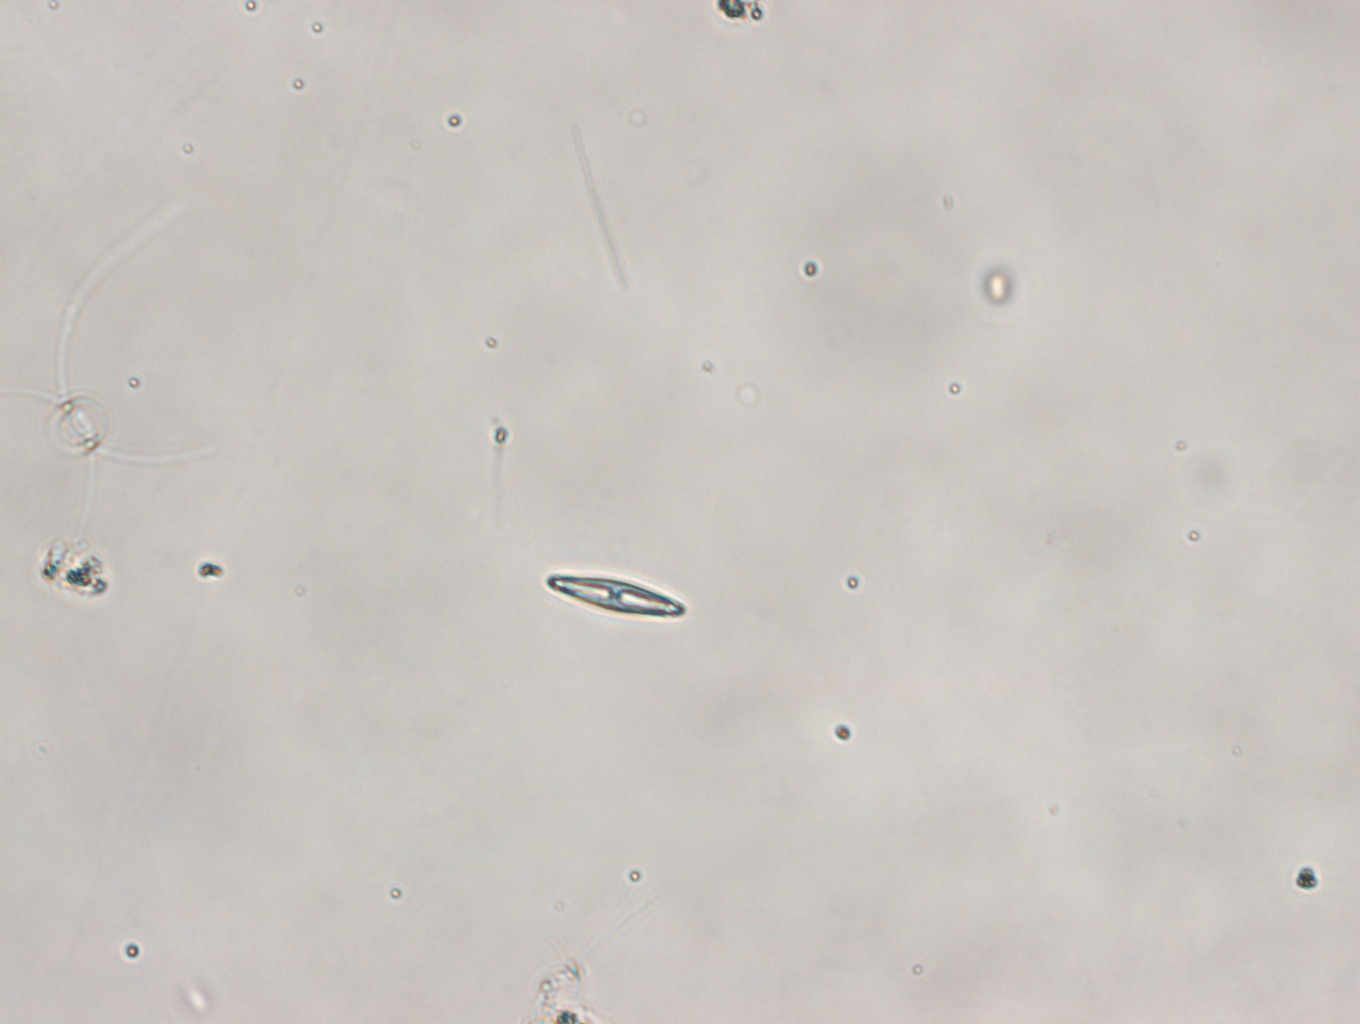navicula: (544, 570, 687, 617)
